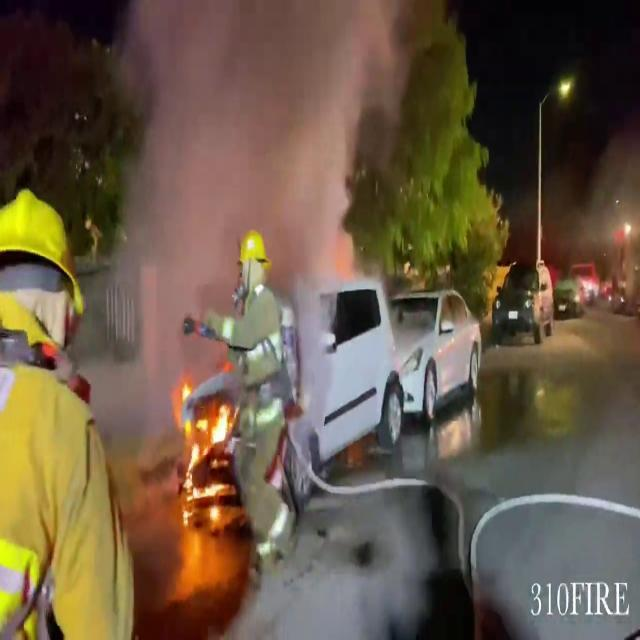Fire: (166, 378, 242, 522)
Smoke: (85, 0, 401, 409)
